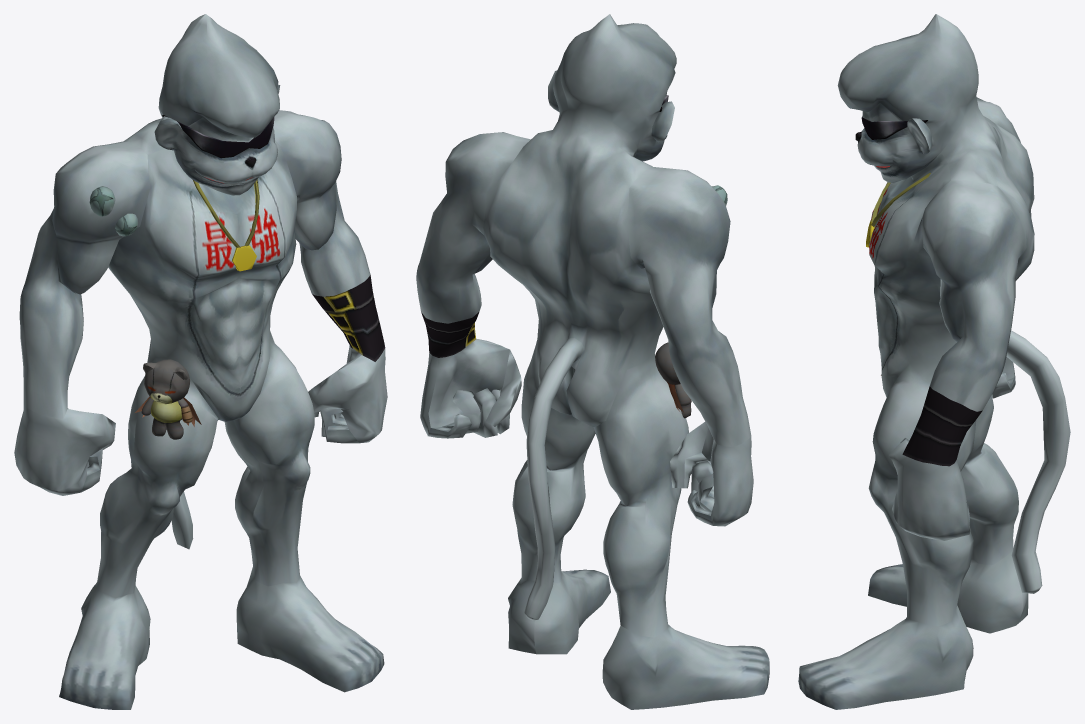
The picture shows the model from 3 angles, left to right: view 1: azimuth 30°, elevation 25°; view 2: azimuth 150°, elevation 25°; view 3: azimuth 270°, elevation 25°; orthographic projection.
Parts seen in each view (by area): view 1: metaletemon; view 2: metaletemon; view 3: metaletemon.
Boxes of the visible parts, <box> form: metaletemon: <box>14,14,387,709</box>; metaletemon: <box>416,14,769,709</box>; metaletemon: <box>798,14,1070,709</box>.
Bounding box in the file's own units: 129 × 236 × 91.05.
Materials: 1 (1 with a texture image).
